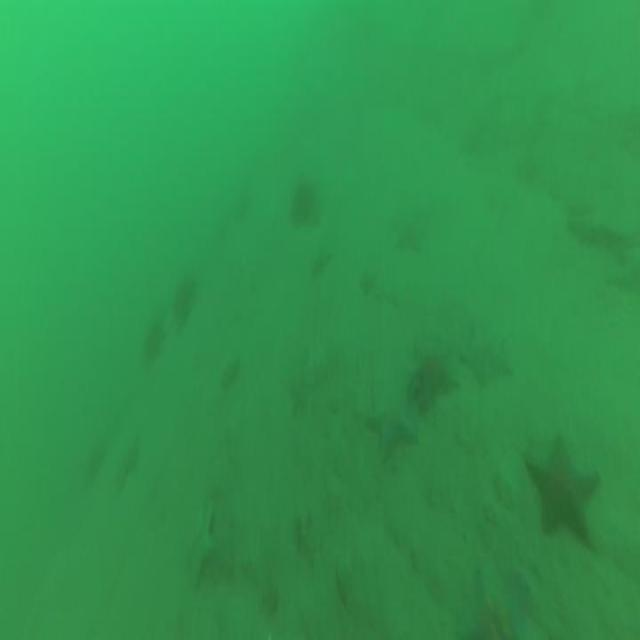echinus: (292, 166, 324, 235)
starfish: (521, 422, 603, 551), (367, 390, 421, 465), (404, 346, 458, 417), (180, 501, 220, 588), (463, 332, 515, 392), (288, 365, 316, 417)
